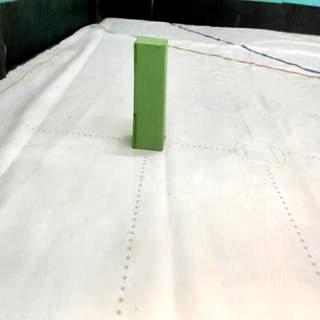greenbox: (132, 37, 168, 151)
